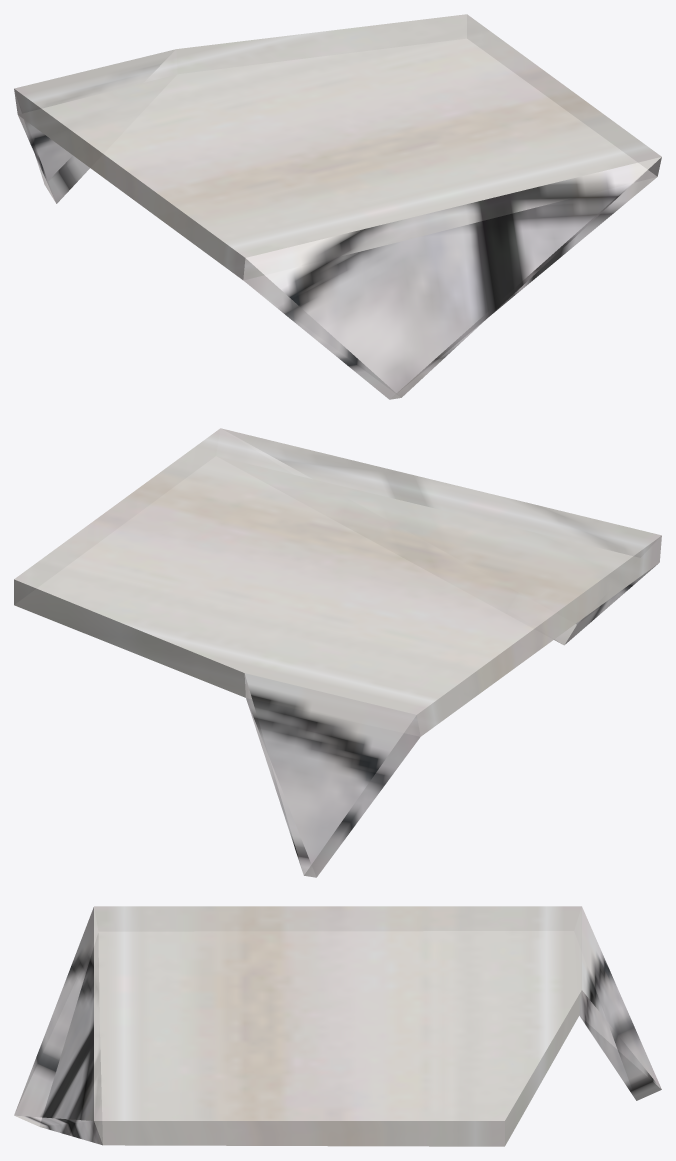
Rendered from Shared - Ground Vehicles - Police Car - CVPoliceCar_x14.glb.
3 views of the same model, one above another, from view 1: azimuth 30°, elevation 25°; view 2: azimuth 150°, elevation 25°; view 3: azimuth 270°, elevation 25° (orthographic). The views are drawn at different scales.
Parts seen in each view (by area): view 1: CVPOLICECAR_X14; view 2: CVPOLICECAR_X14; view 3: CVPOLICECAR_X14.
Part boxes in pixels (<box>): CVPOLICECAR_X14: <box>14,14,661,399</box>; CVPOLICECAR_X14: <box>14,428,661,877</box>; CVPOLICECAR_X14: <box>14,906,661,1146</box>.
Size of the model in its own units: 5.77 by 2.01 by 7.37.
Materials: 1 (1 with a texture image).
